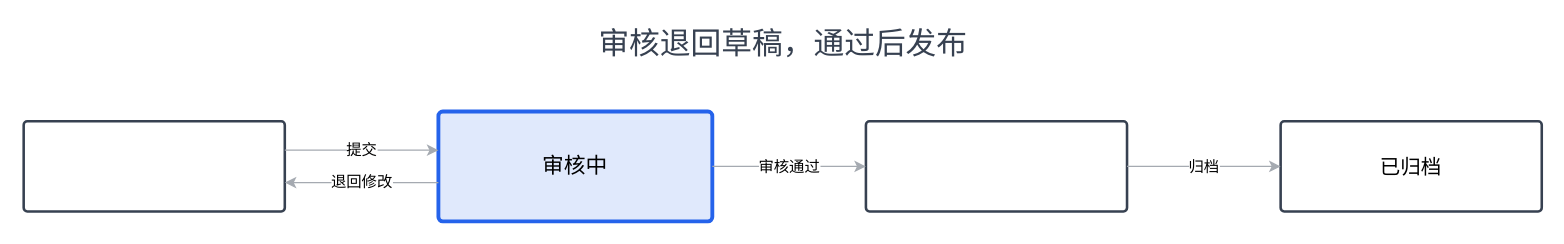
This 1564x244 diagram has some shape labels left out. Each missing label, with the centre of its shape:
已发布: (x=996, y=165)
草稿: (x=153, y=165)
